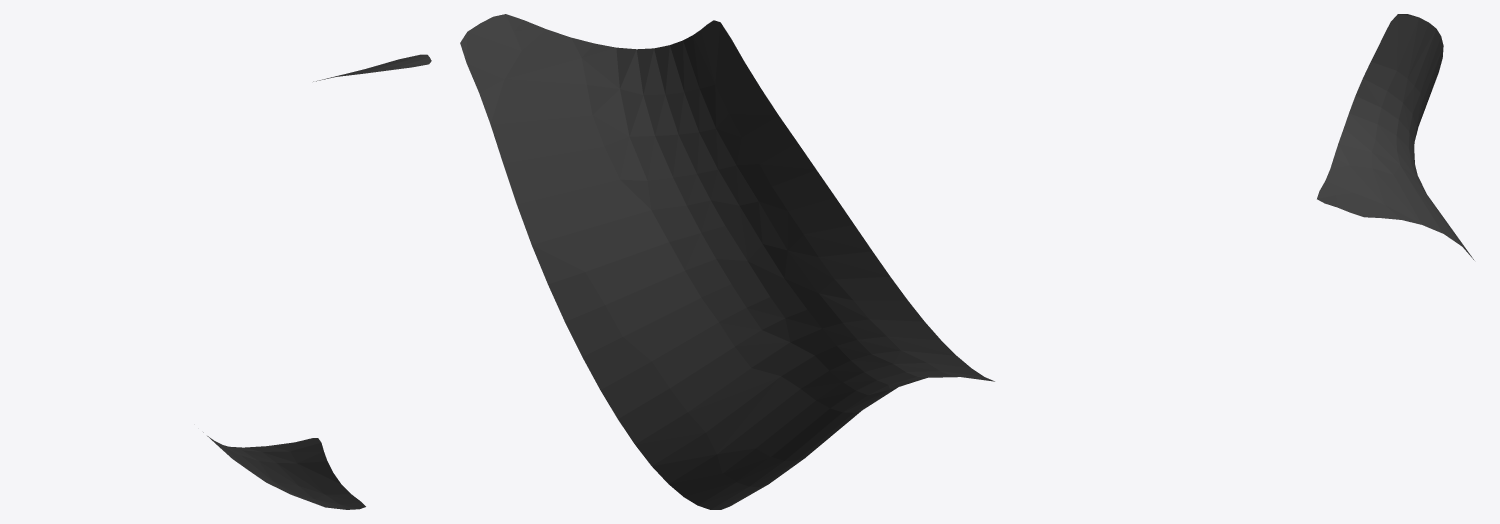
File: Humerus_trochlea.glb
3 renders of one model, left to right at view 1: azimuth 30°, elevation 25°; view 2: azimuth 150°, elevation 25°; view 3: azimuth 270°, elevation 25°, orthographic. The views are drawn at different scales.
Visible parts, largest first — view 1: Humerus_trochlea; view 2: Humerus_trochlea; view 3: Humerus_trochlea.
Boxes of the visible parts, bbox=[...] form: Humerus_trochlea: bbox=[203, 54, 431, 509]; Humerus_trochlea: bbox=[460, 14, 994, 509]; Humerus_trochlea: bbox=[1317, 14, 1474, 260].
Bounding box in the file's own units: 0.253 × 0.2704 × 0.2275.
1 material, 1 textured.
